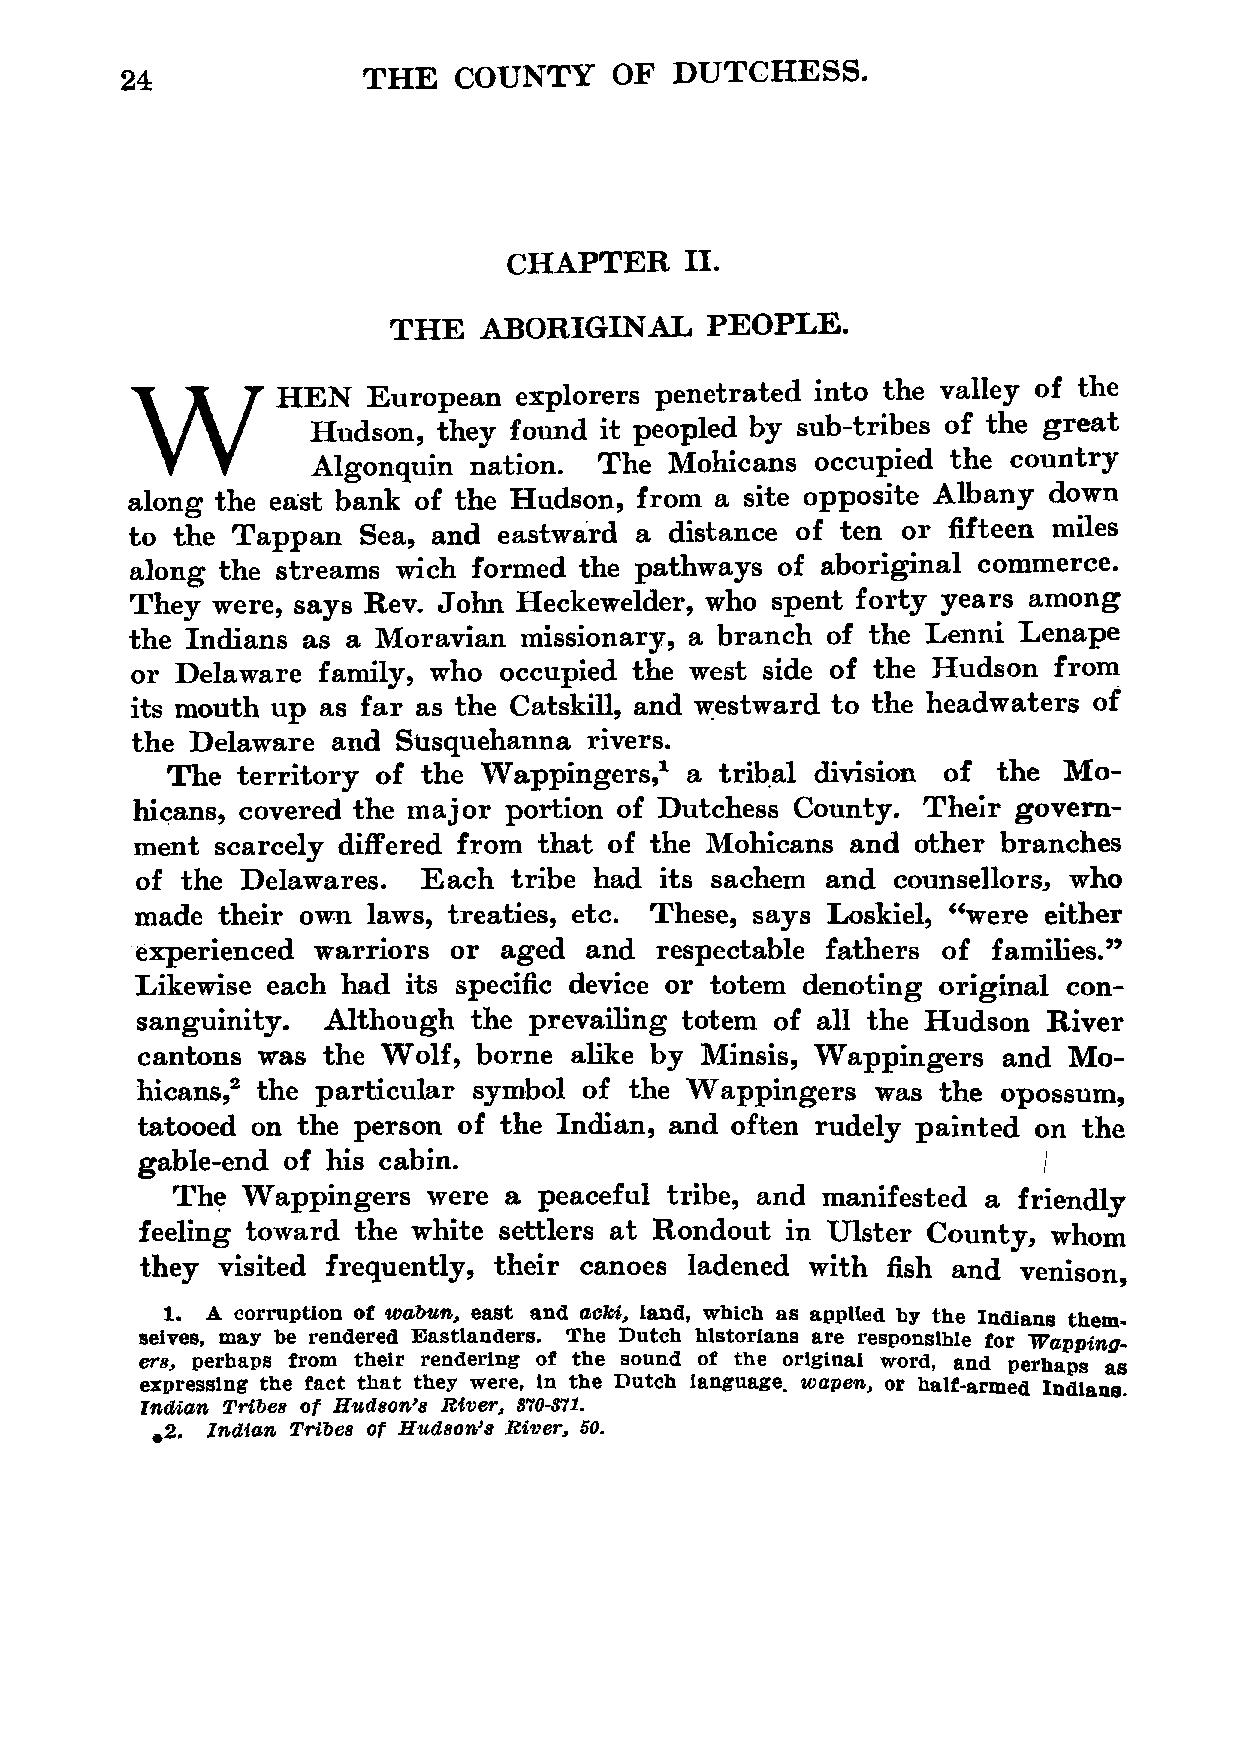chapter: (386, 246, 851, 344), (358, 56, 874, 94)
content: (123, 370, 1130, 1447)
content_pagenumber: (113, 63, 156, 97)
